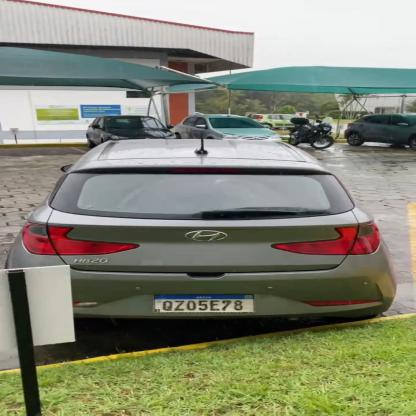Plate: (146, 288, 264, 318)
